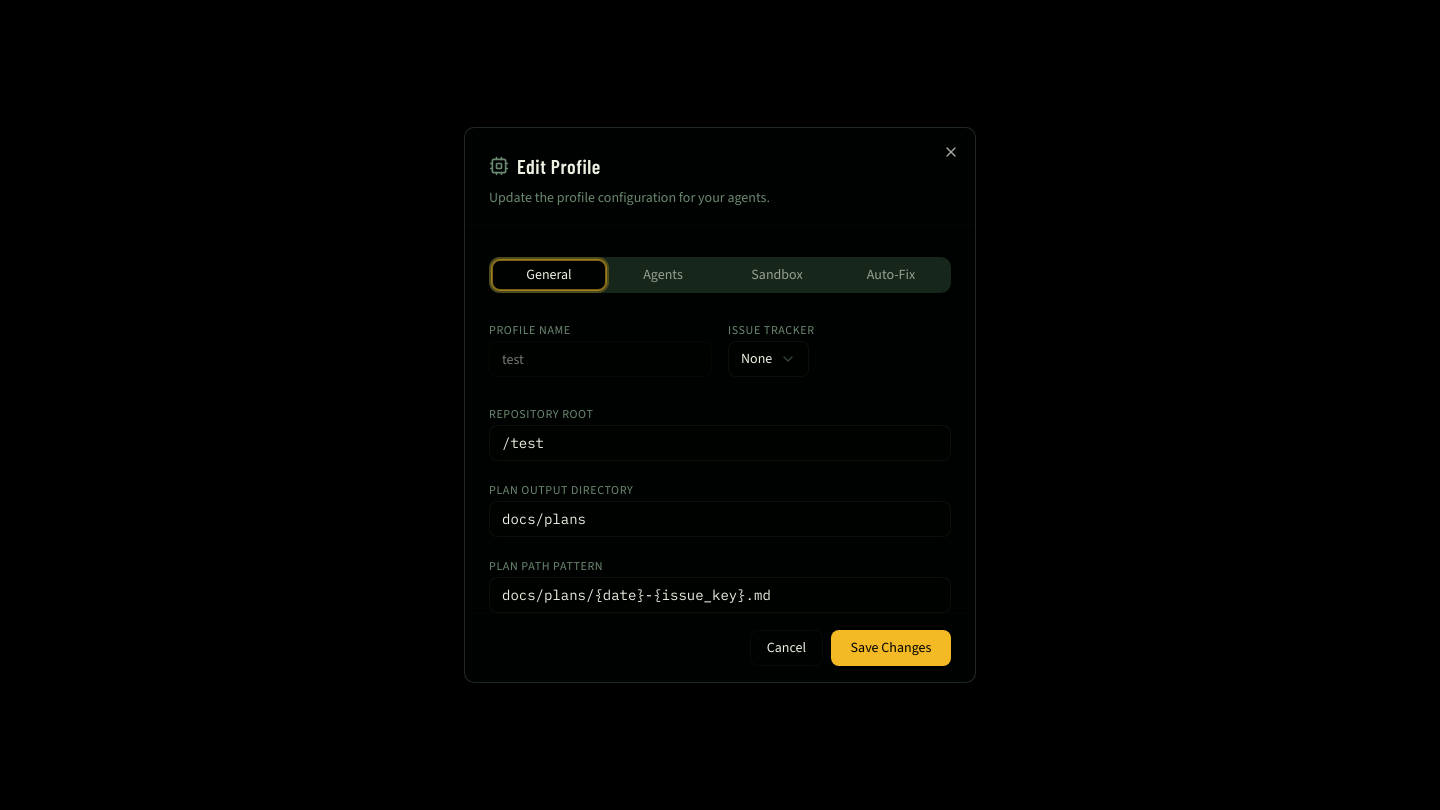
Test case: HostChipInput via Sandbox tab › should remove a host when clicking the remove button
This screenshot has width=1440, height=810.
Click the tab "Sandbox" at coordinates (777, 275), box x1=720 y1=260 x2=834 y2=290
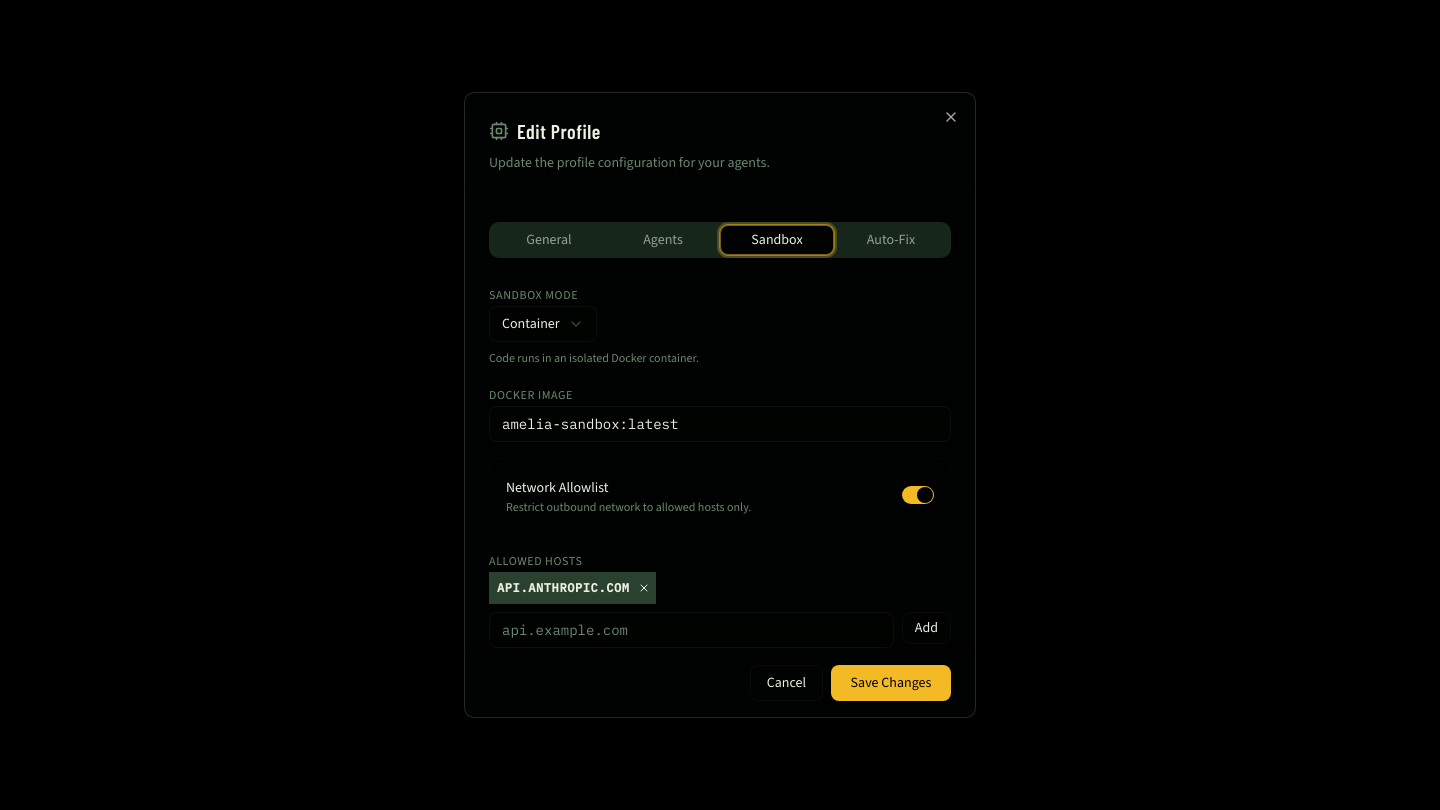
Expected: the text "api.anthropic.com" is shown, x1=489 y1=572 x2=656 y2=604
Click the button named "Remove api.anthropic.com" at coordinates (644, 588), box x1=636 y1=580 x2=652 y2=596
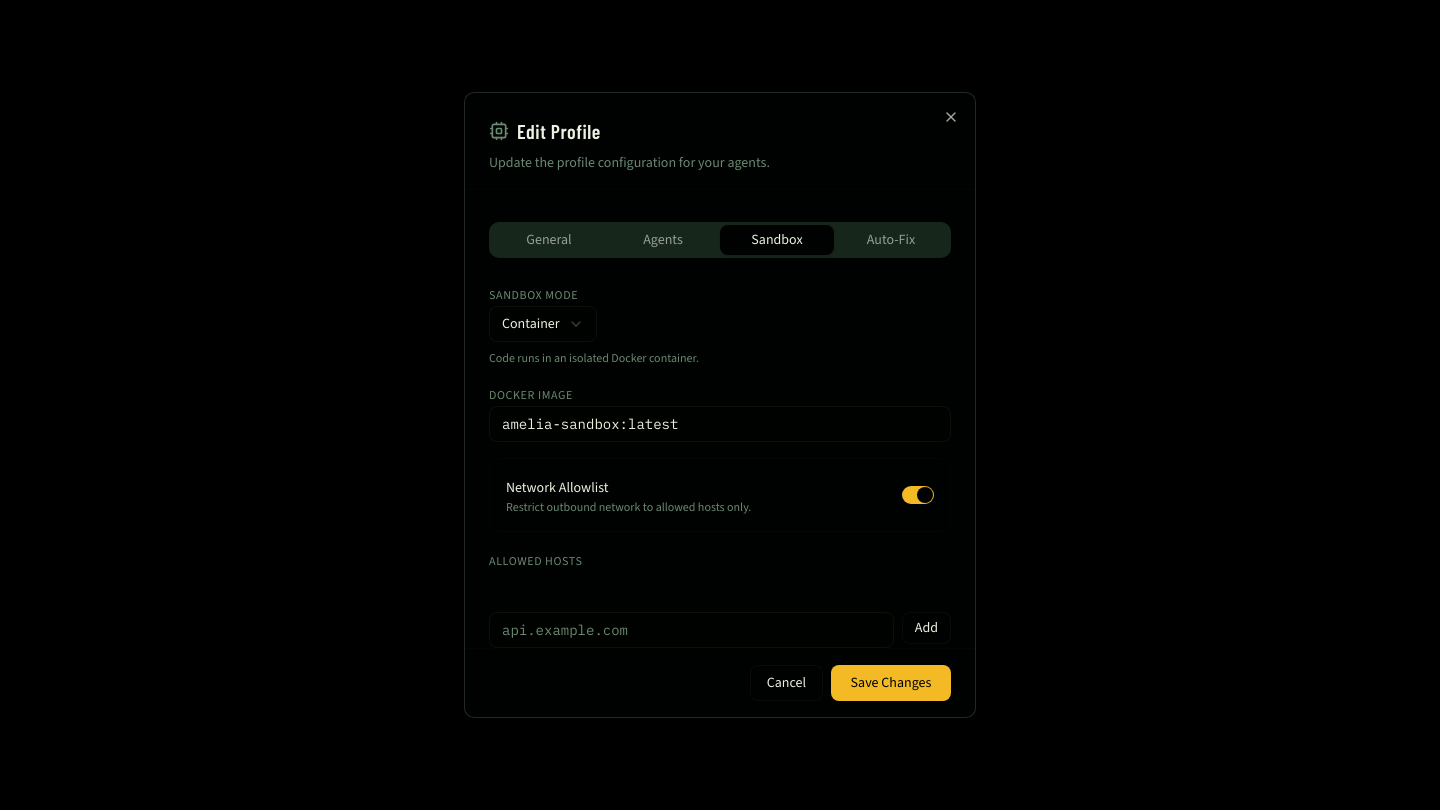
Expected: the text "api.anthropic.com" is gone
